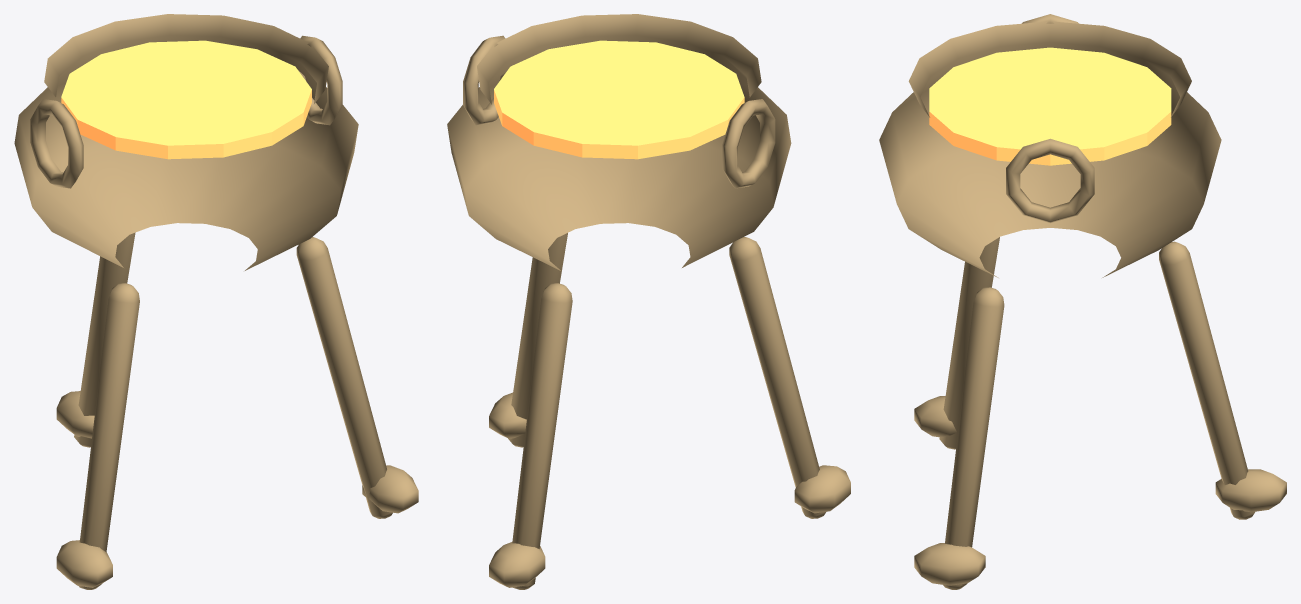
File: mythic-underworld-and-olympus-tripod-cauldron-b86c0ae9__21406.glb
3 renders of one model, left to right at view 1: azimuth 30°, elevation 25°; view 2: azimuth 150°, elevation 25°; view 3: azimuth 270°, elevation 25°, orthographic.
Visible parts, largest first — view 1: tripod-cauldron; view 2: tripod-cauldron; view 3: tripod-cauldron.
Part boxes in pixels (x1,y1,x2,y2): tripod-cauldron: [14, 14, 418, 589]; tripod-cauldron: [447, 14, 850, 589]; tripod-cauldron: [879, 14, 1286, 589].
Size of the model in its own units: 1.34 by 1.65 by 1.38.
